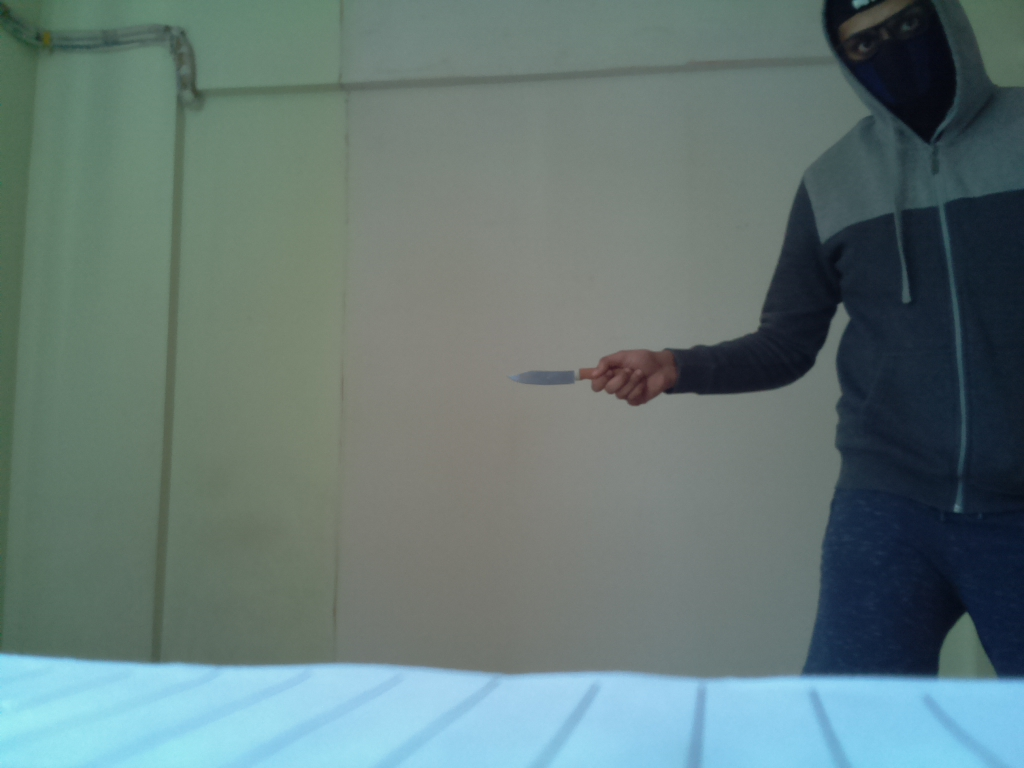knife: (500, 359, 617, 390)
